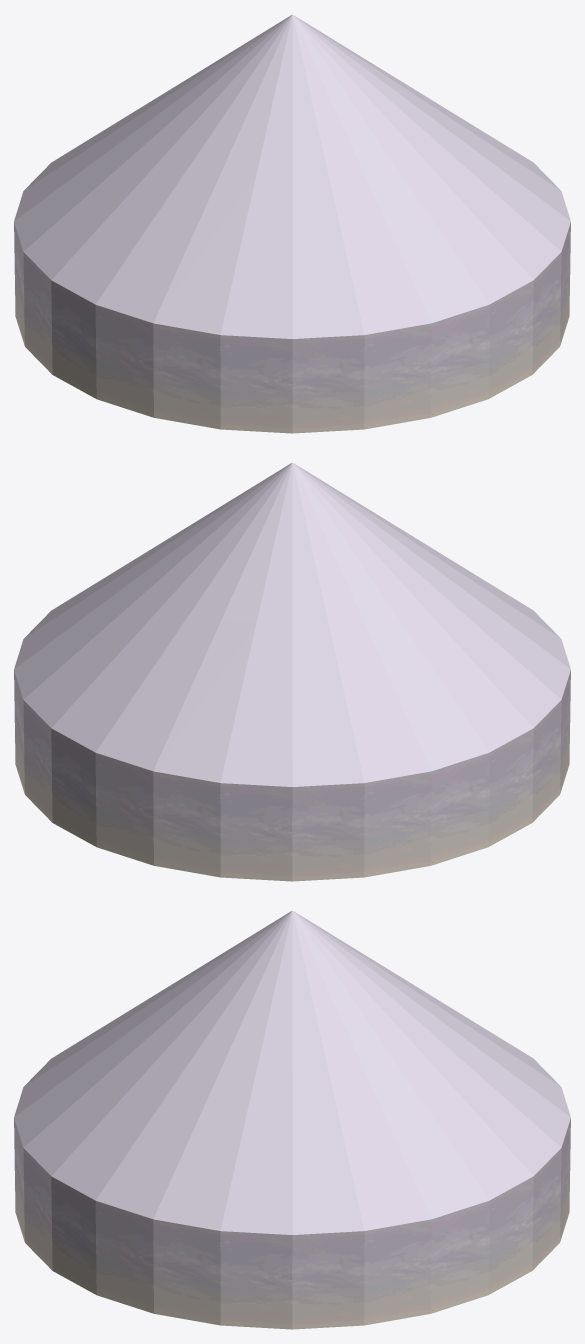
3 views of the same model, one above another, from view 1: azimuth 30°, elevation 25°; view 2: azimuth 150°, elevation 25°; view 3: azimuth 270°, elevation 25° (orthographic).
Visible parts, largest first — view 1: mesh00; view 2: mesh00; view 3: mesh00.
Part boxes in pixels (<box>): mesh00: <box>14,14,570,433</box>; mesh00: <box>14,462,570,881</box>; mesh00: <box>14,910,570,1329</box>.
Size of the model in its own units: 18478 by 11056 by 18478.
1 material, 1 textured.
